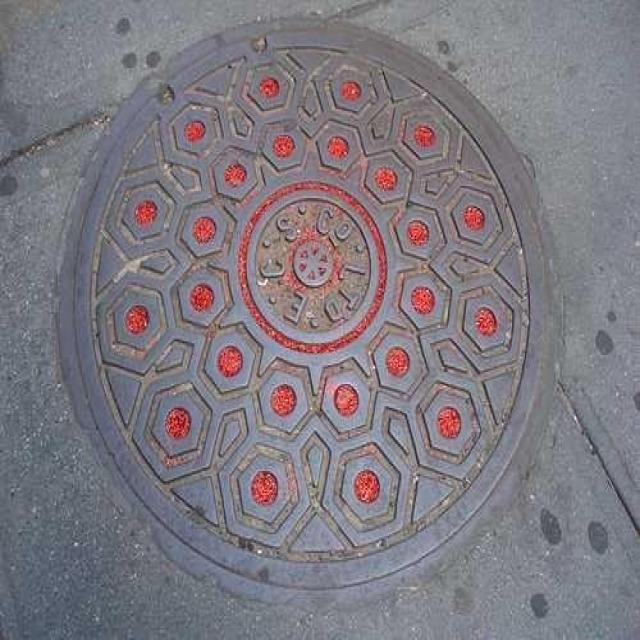manhole: (60, 22, 553, 598)
